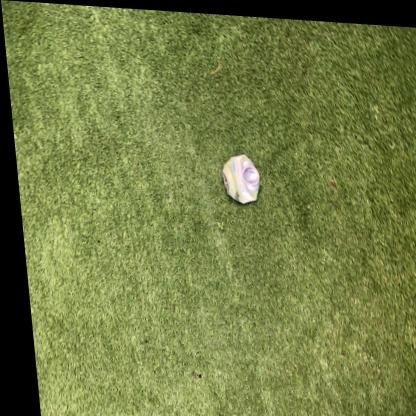trash: (223, 155, 259, 203)
